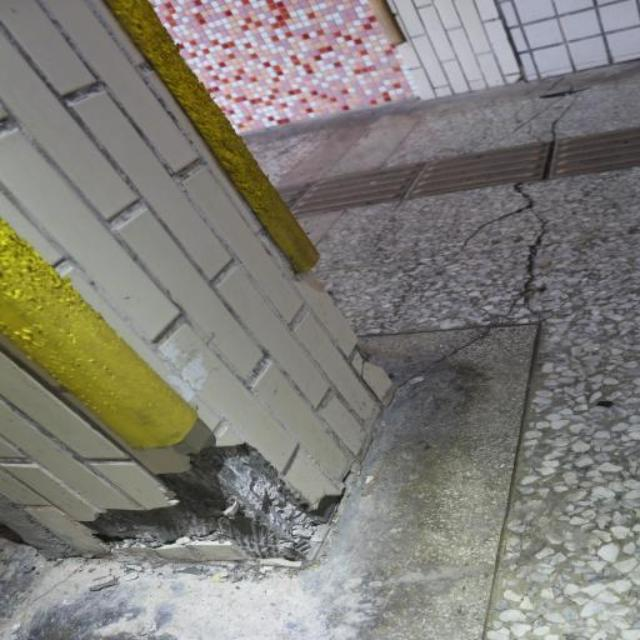D10: (86, 446, 337, 565)
